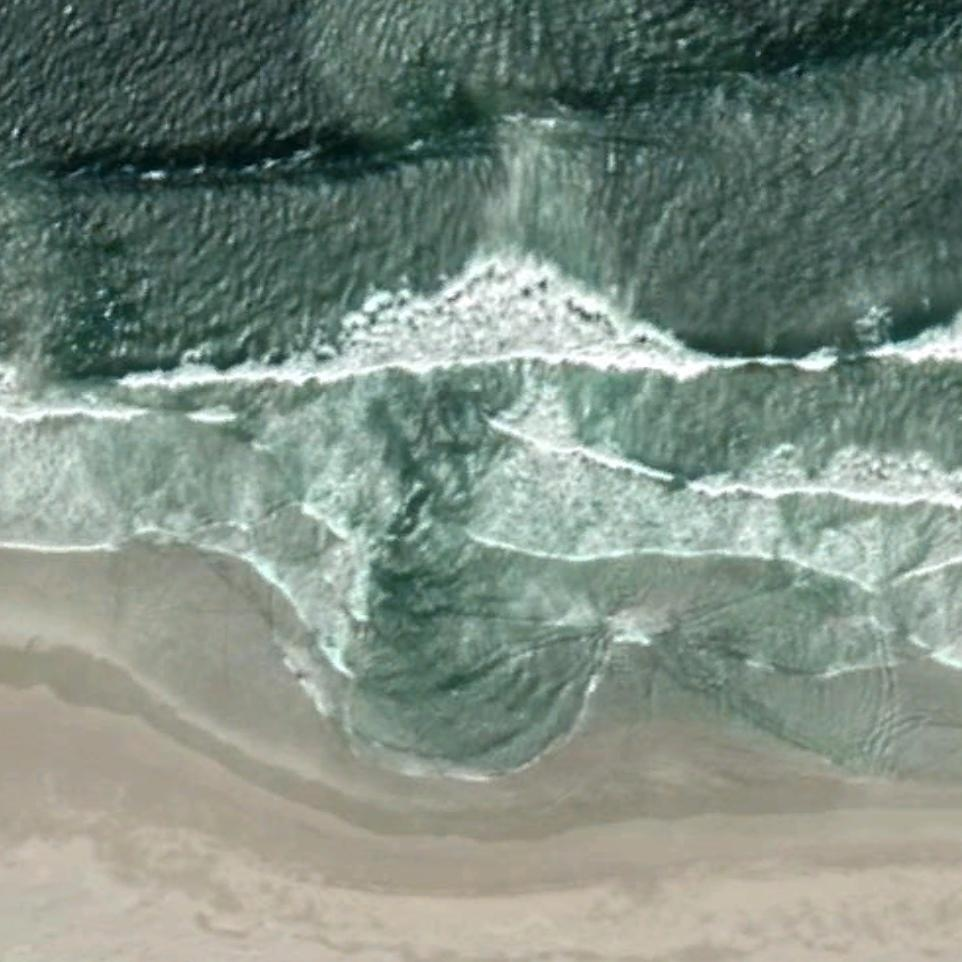rip_current: (300, 134, 567, 670)
